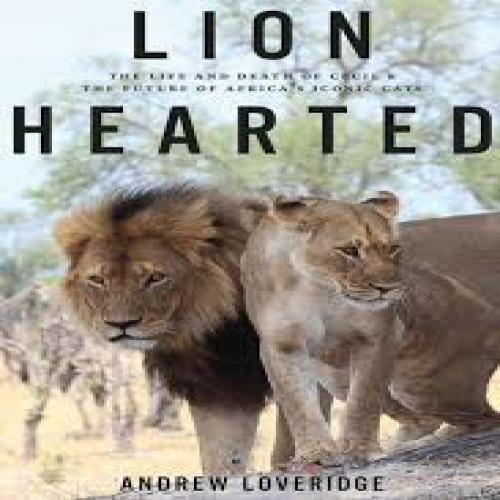lion-endangered: (40, 183, 500, 476), (232, 191, 412, 474)
